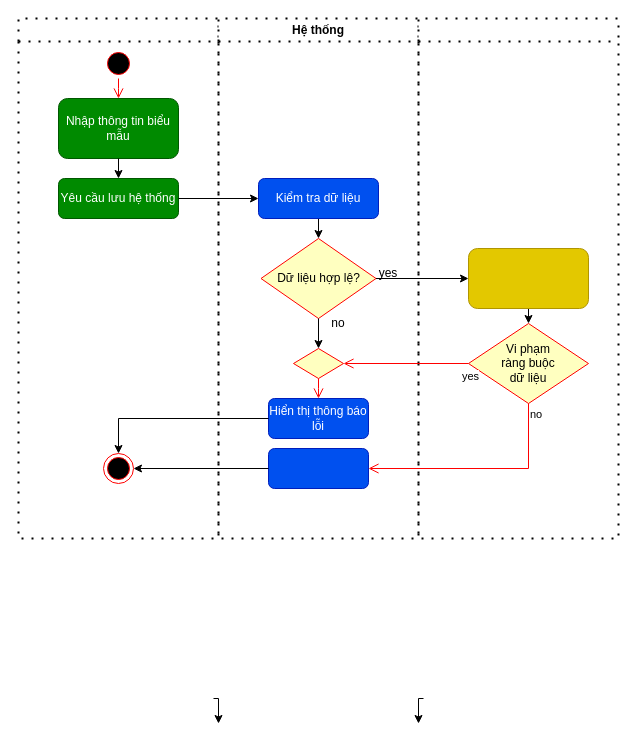
This 636x749 diagram has some shape labels left out. Each missing label, with the box of its shape:
Database: (417, 17, 619, 539)
Người dùng: (17, 17, 219, 539)
Thông báo thành công: (268, 448, 368, 488)
Thực thi truy vấn SQL: (468, 248, 588, 308)
